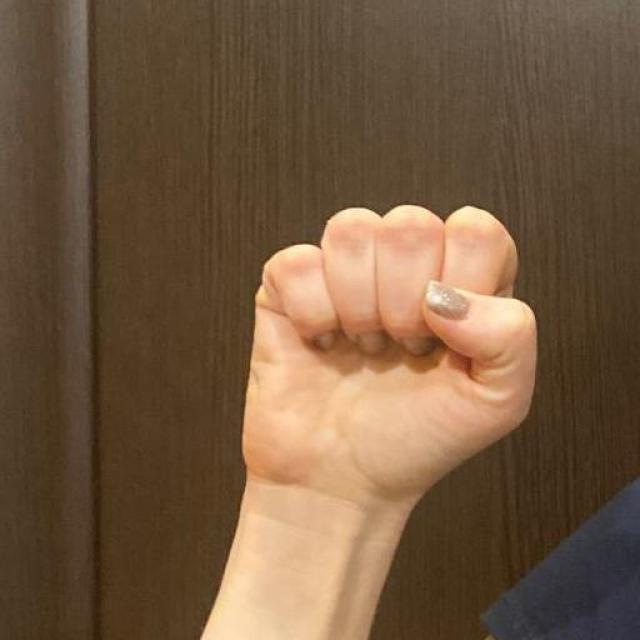hand: (239, 201, 539, 509)
